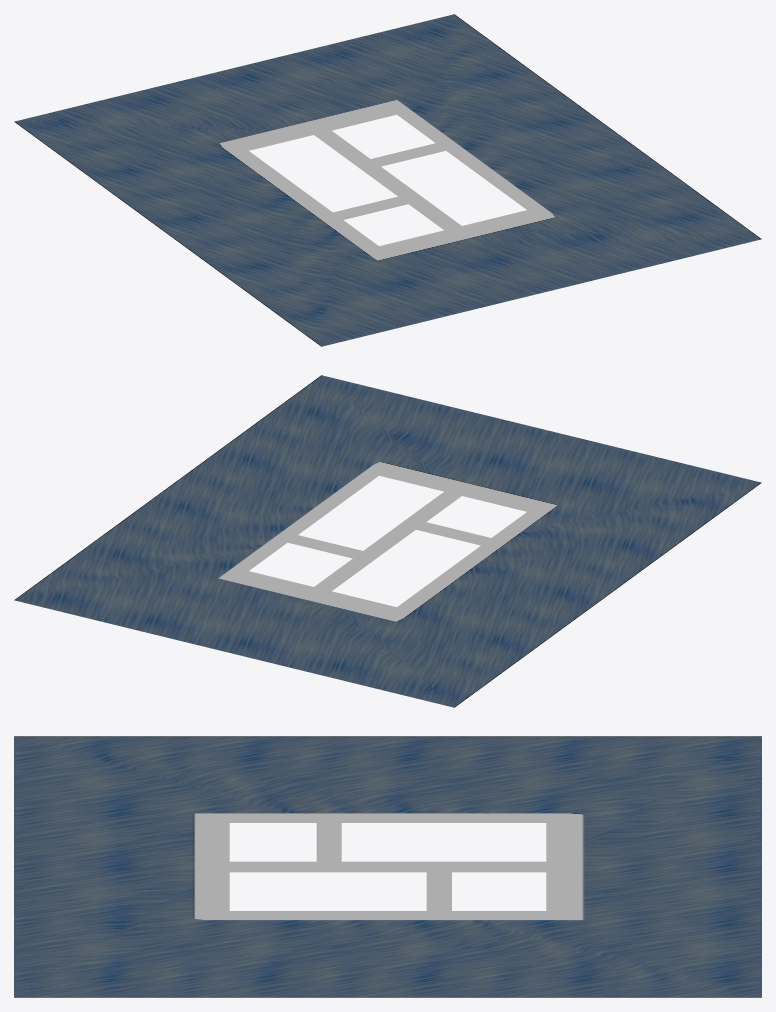
The model's file is window_wall.fbx.
3 views of the same model, one above another, from view 1: azimuth 30°, elevation 25°; view 2: azimuth 150°, elevation 25°; view 3: azimuth 270°, elevation 25° (orthographic). The views are drawn at different scales.
Parts seen in each view (by area): view 1: Plane; view 2: Plane; view 3: Plane.
Boxes of the visible parts, x1=… form: Plane: x1=14, y1=14, x2=761, y2=346; Plane: x1=14, y1=375, x2=761, y2=707; Plane: x1=14, y1=736, x2=761, y2=997.
Size of the model in its own units: 2719 by 0.000536 by 3288.
